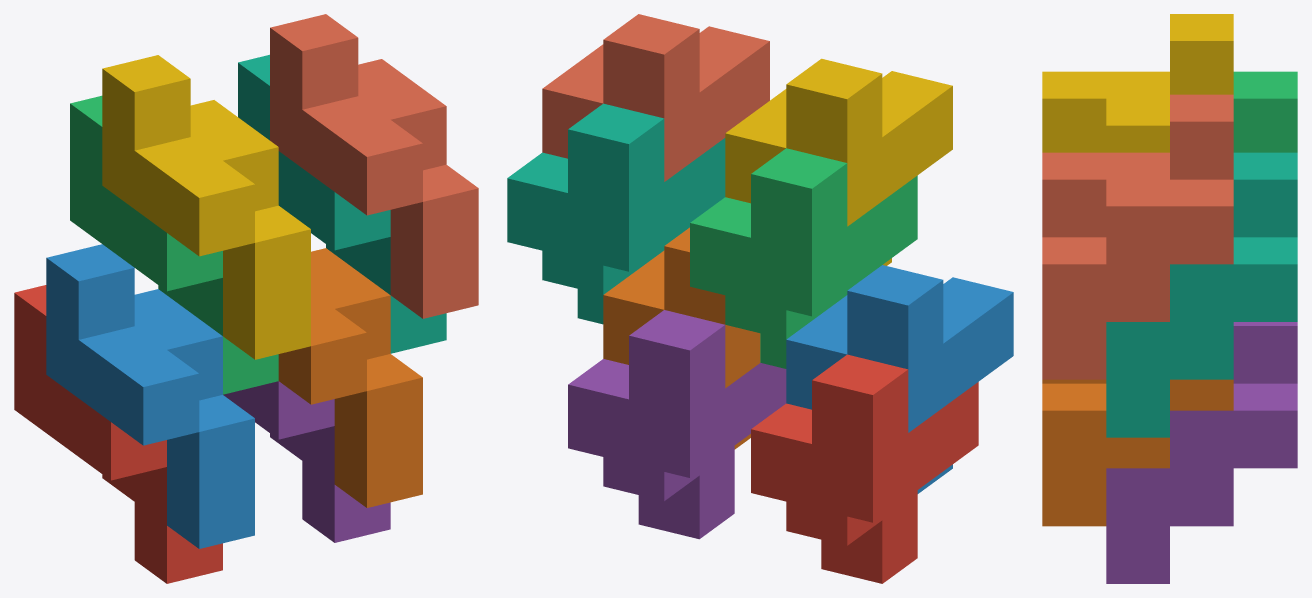
Rendered from tiling.obj.
3 renders of one model, left to right at view 1: azimuth 30°, elevation 25°; view 2: azimuth 150°, elevation 25°; view 3: azimuth 270°, elevation 25°, orthographic. The views are drawn at different scales.
Visible parts, largest first — view 1: copy_1_domain_8, copy_1_domain_2, copy_1_domain_4, copy_1_domain_6, copy_1_domain_1, copy_1_domain_3, copy_1_domain_7, copy_1_domain_5; view 2: copy_1_domain_1, copy_1_domain_5, copy_1_domain_3, copy_1_domain_7, copy_1_domain_2, copy_1_domain_4, copy_1_domain_8, copy_1_domain_6; view 3: copy_1_domain_8, copy_1_domain_7, copy_1_domain_5, copy_1_domain_4, copy_1_domain_6, copy_1_domain_3.
Part boxes in pixels (box(x1,y1,x2,y2)): copy_1_domain_8: box(270, 14, 478, 318); copy_1_domain_2: box(46, 244, 254, 548); copy_1_domain_4: box(102, 55, 310, 359); copy_1_domain_6: box(278, 248, 422, 507); copy_1_domain_1: box(14, 285, 222, 583); copy_1_domain_3: box(70, 95, 278, 394); copy_1_domain_7: box(238, 54, 446, 353); copy_1_domain_5: box(223, 381, 390, 542); copy_1_domain_1: box(751, 354, 978, 583); copy_1_domain_5: box(568, 310, 786, 539); copy_1_domain_3: box(690, 148, 917, 368); copy_1_domain_7: box(507, 103, 725, 324); copy_1_domain_2: box(786, 265, 1013, 493); copy_1_domain_4: box(725, 58, 952, 265); copy_1_domain_8: box(542, 14, 769, 181); copy_1_domain_6: box(603, 227, 760, 449); copy_1_domain_8: box(1042, 94, 1233, 379); copy_1_domain_7: box(1106, 152, 1297, 437); copy_1_domain_5: box(1106, 322, 1297, 583); copy_1_domain_4: box(1042, 14, 1233, 152); copy_1_domain_6: box(1042, 379, 1233, 526); copy_1_domain_3: box(1233, 71, 1297, 152).
Bounding box in the file's own units: 6 × 8 × 4.
